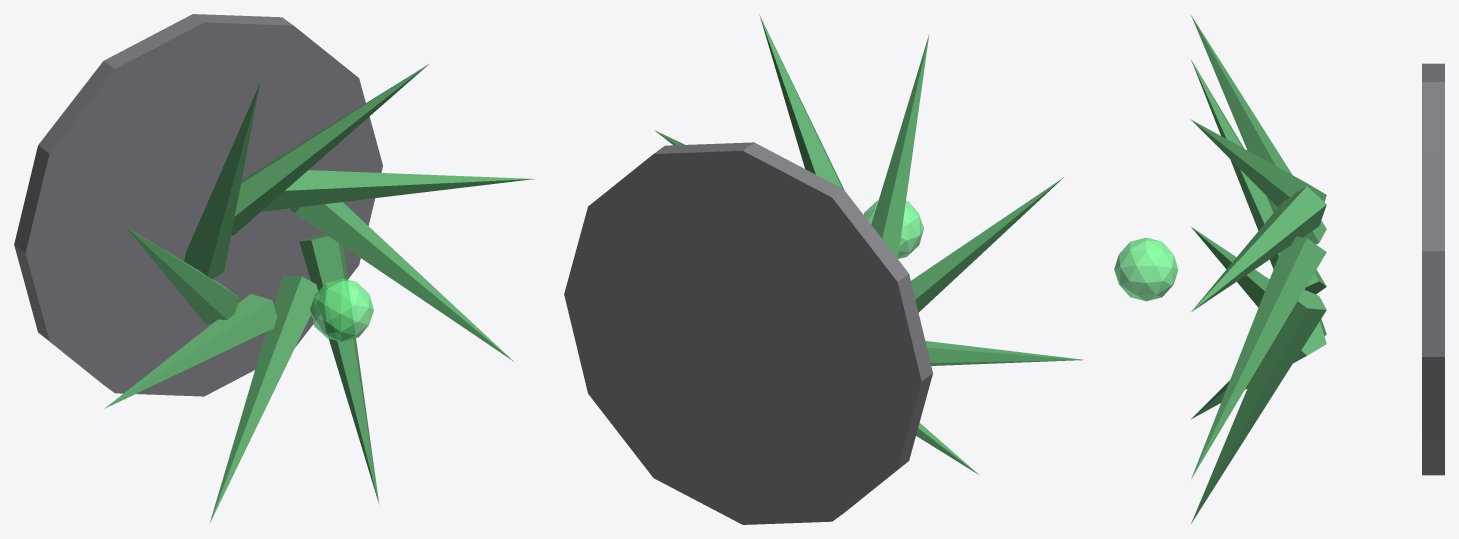
Rendered from poison_herb_patch.glb.
3 views of the same model, side by side, from view 1: azimuth 30°, elevation 25°; view 2: azimuth 150°, elevation 25°; view 3: azimuth 270°, elevation 25° (orthographic).
Parts seen in each view (by area): view 1: dirt_patch, leaf_0, leaf_7, leaf_2, leaf_1, leaf_3, leaf_4, leaf_6, leaf_5, flower; view 2: dirt_patch, leaf_4, leaf_5, leaf_3, leaf_6, flower; view 3: dirt_patch, leaf_1, leaf_0, leaf_2, flower, leaf_4, leaf_3, leaf_5, leaf_6, leaf_7.
Boxes of the visible parts, x1,y1,x2,y2 form: dirt_patch: (14,14,382,396); leaf_0: (299,235,379,504); leaf_7: (209,276,319,523); leaf_2: (262,170,533,211); leaf_1: (290,202,513,361); leaf_3: (205,63,429,235); leaf_4: (184,83,259,278); leaf_6: (105,294,277,408); leaf_5: (125,226,240,323); flower: (310,278,373,341); dirt_patch: (564,142,932,524); leaf_4: (871,34,929,258); leaf_5: (911,177,1063,312); leaf_3: (759,15,844,189); leaf_6: (925,341,1083,365); flower: (864,200,923,258); dirt_patch: (1422,63,1444,475); leaf_1: (1191,236,1326,478); leaf_0: (1191,289,1326,523); leaf_2: (1191,186,1326,311); flower: (1114,237,1178,301); leaf_4: (1191,15,1326,244); leaf_3: (1191,119,1326,207); leaf_5: (1191,60,1326,294); leaf_6: (1191,227,1326,336); leaf_7: (1191,321,1326,419).
Size of the model in its own units: 1.09 by 1.09 by 0.72.
